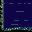Interaction: (0, 0, 7, 32), (7, 25, 32, 32)
Slow: (5, 0, 32, 28)
